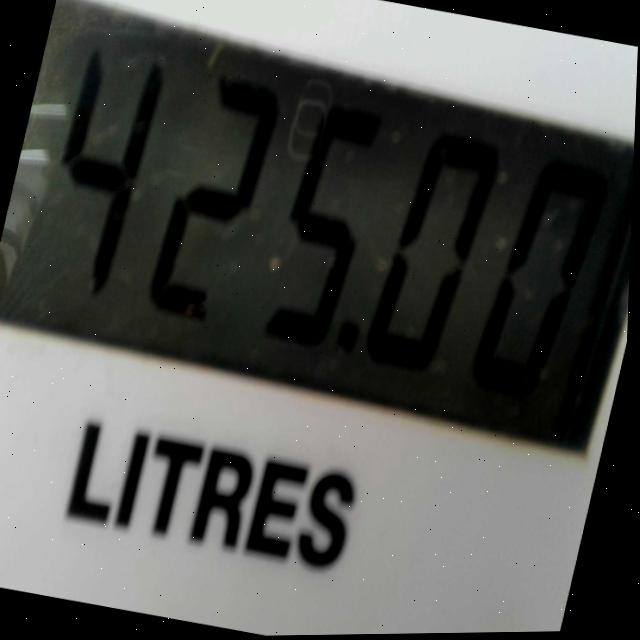.: (327, 315, 378, 390)
0: (367, 125, 504, 385), (479, 157, 603, 399)
2: (132, 70, 288, 345)
4: (33, 35, 181, 303)
5: (249, 86, 391, 361)
